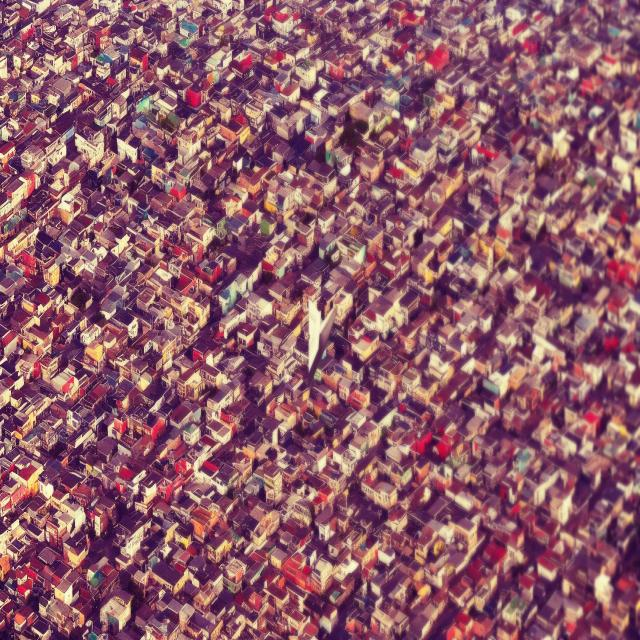airplane: (308, 304, 336, 376)
